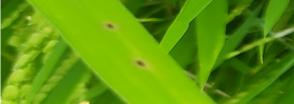Bercak Coklat: (130, 56, 150, 69), (101, 17, 115, 33)
